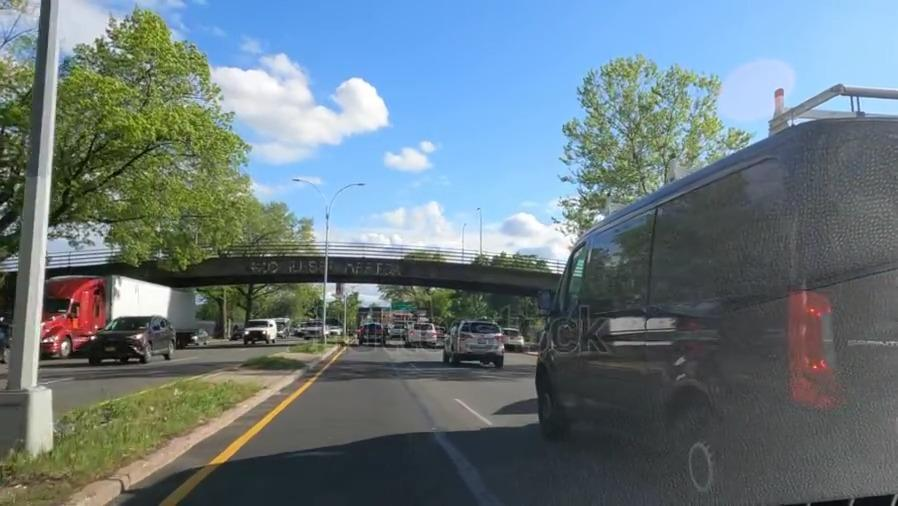car: (95, 317, 172, 362), (441, 319, 507, 367), (406, 320, 437, 346), (503, 326, 525, 353), (361, 323, 383, 348), (185, 326, 210, 345)
truck: (37, 282, 198, 355)
van: (535, 170, 898, 429), (241, 319, 277, 344)
wheel: (659, 390, 734, 506), (530, 374, 561, 431)
